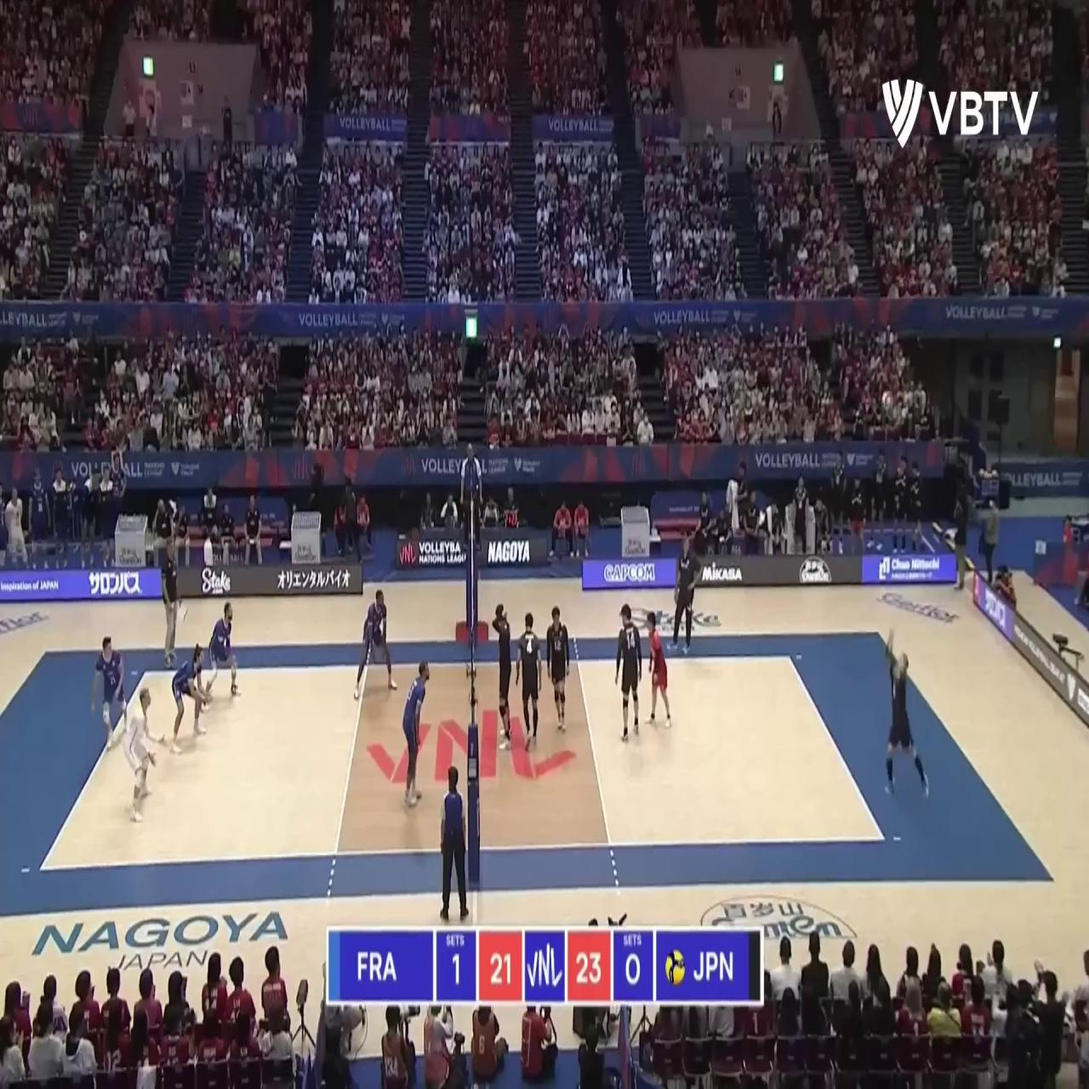ball: (882, 391, 892, 411)
